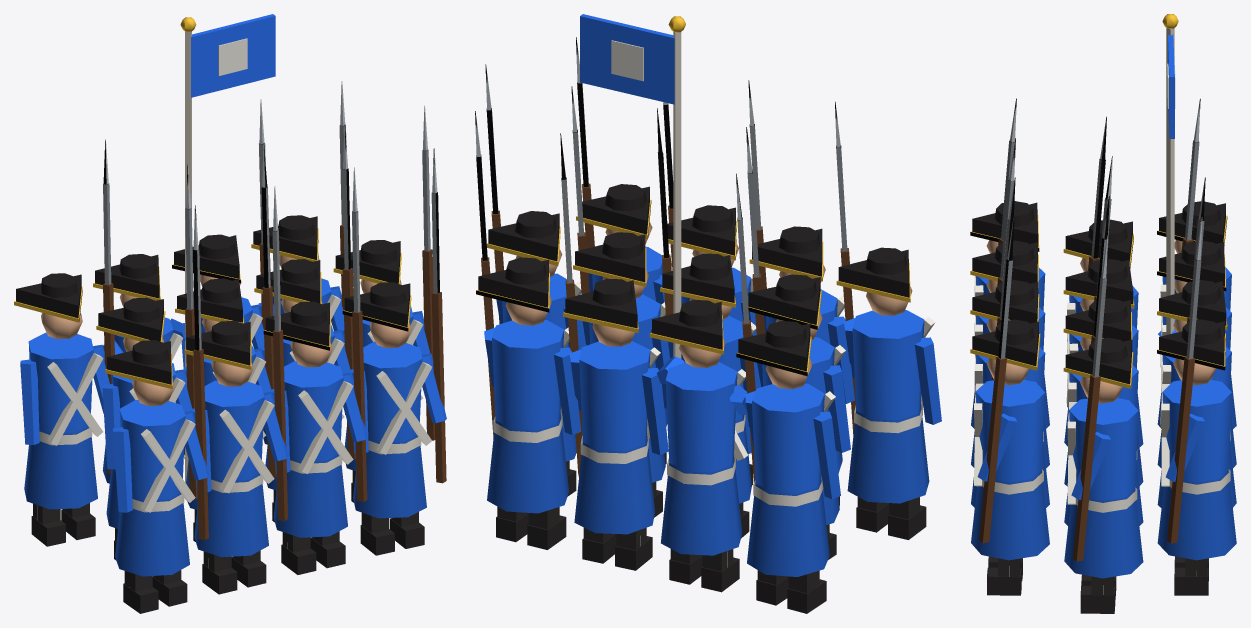
The model's file is squad_dl4_blue.glb.
3 views of the same model, side by side, from view 1: azimuth 30°, elevation 25°; view 2: azimuth 150°, elevation 25°; view 3: azimuth 270°, elevation 25° (orthographic). The views are drawn at different scales.
Visible parts, largest first — view 1: squad_dl4_blue; view 2: squad_dl4_blue; view 3: squad_dl4_blue.
Part boxes in pixels (bbox=[...]): squad_dl4_blue: bbox=[14, 14, 446, 613]; squad_dl4_blue: bbox=[475, 14, 941, 613]; squad_dl4_blue: bbox=[970, 14, 1236, 613].
Size of the model in its own units: 0.5968 by 0.7809 by 0.3711.
1 material, 1 textured.
